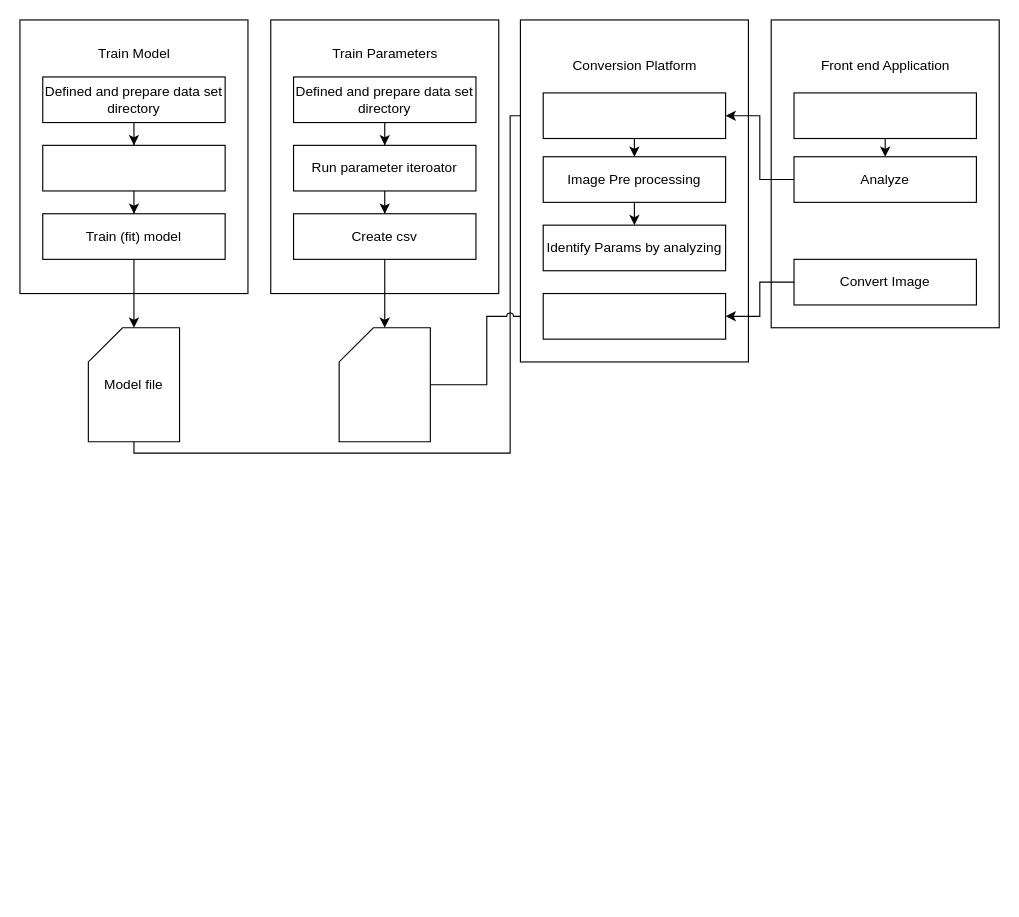
Image size: 1019x917. Some labels were removed from this diagram. Each missing label, with the box of its shape:
Classify Image: (542, 92, 726, 139)
Convert Image with params: (542, 292, 726, 339)
Label data: (42, 144, 225, 191)
parameter data: (338, 327, 430, 442)
Upload Image: (793, 92, 976, 139)
